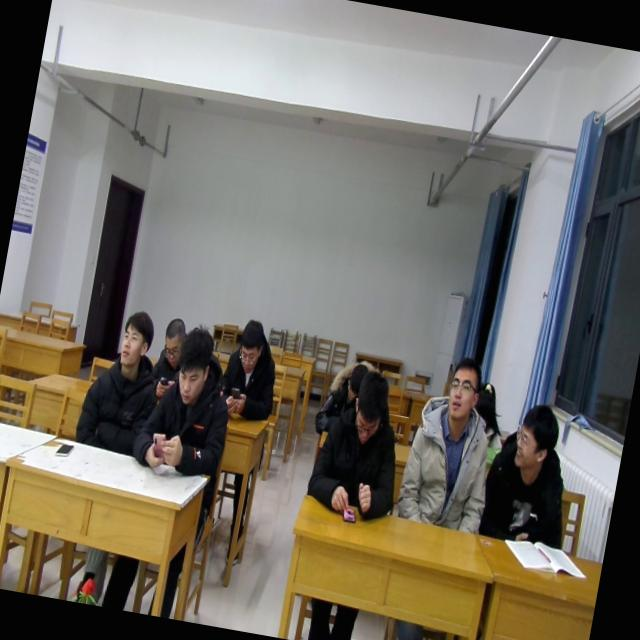bow: (212, 312, 288, 428), (312, 352, 383, 443), (461, 378, 515, 468), (146, 313, 192, 402)
down: (168, 320, 222, 411), (345, 366, 395, 448), (232, 310, 270, 378), (155, 310, 188, 368), (471, 374, 502, 426), (342, 359, 369, 404)
lookup: (438, 350, 488, 423), (112, 302, 160, 369)
sit: (394, 348, 512, 537), (128, 317, 245, 485), (304, 360, 416, 523), (475, 396, 586, 554), (70, 300, 172, 460)
